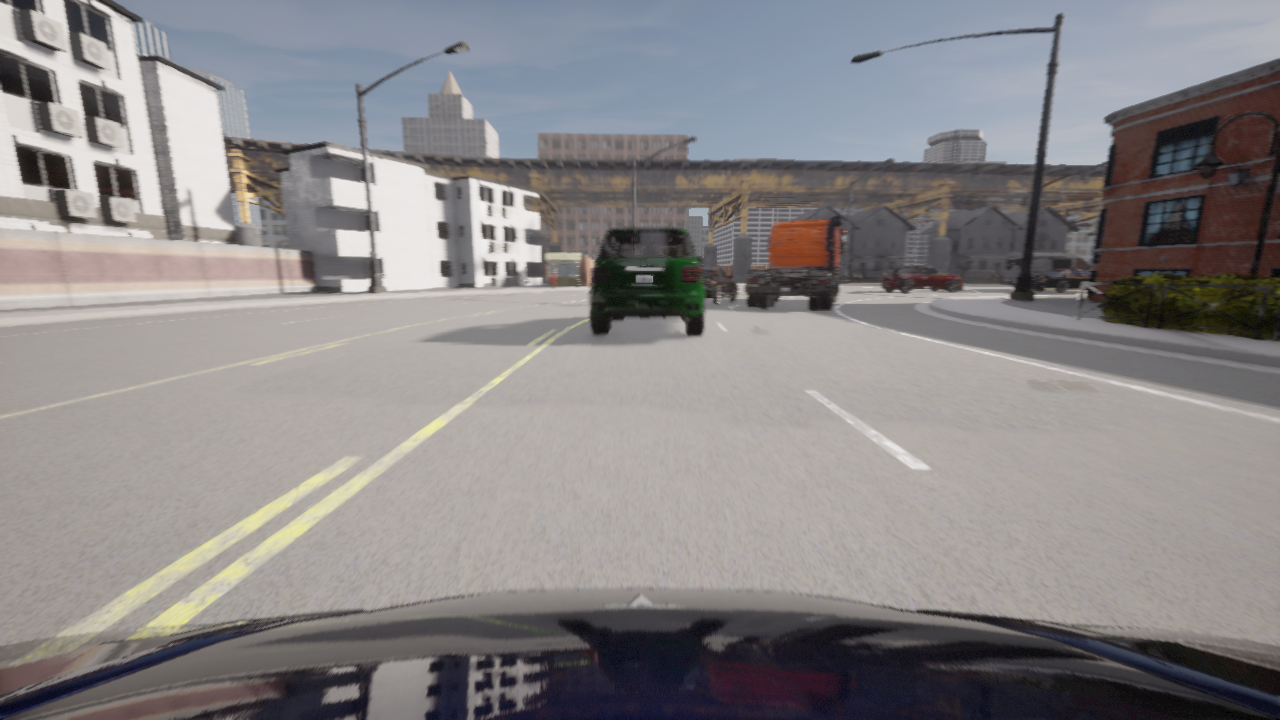cyclist: (0, 588, 1279, 719), (589, 227, 704, 335), (744, 216, 847, 309), (1002, 258, 1090, 284), (881, 264, 962, 292), (701, 267, 737, 304), (1039, 279, 1045, 280)
pedestrian: (550, 262, 556, 287)
